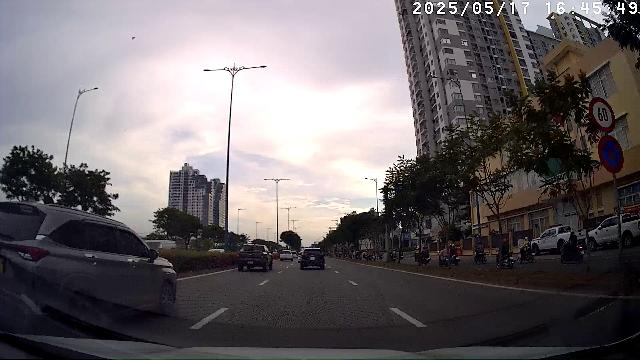127-toc-do-toi-da-60: (589, 97, 617, 133)
130-cam-dung-va-do-xe: (598, 134, 624, 173)
